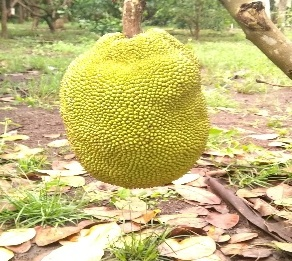Mit: (58, 29, 212, 188)
